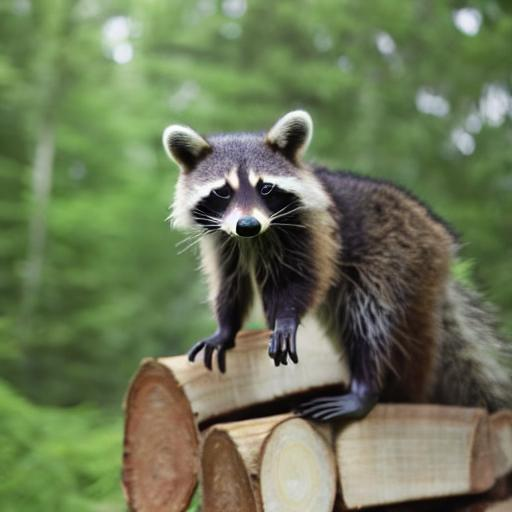raccoon: (159, 107, 465, 322)
